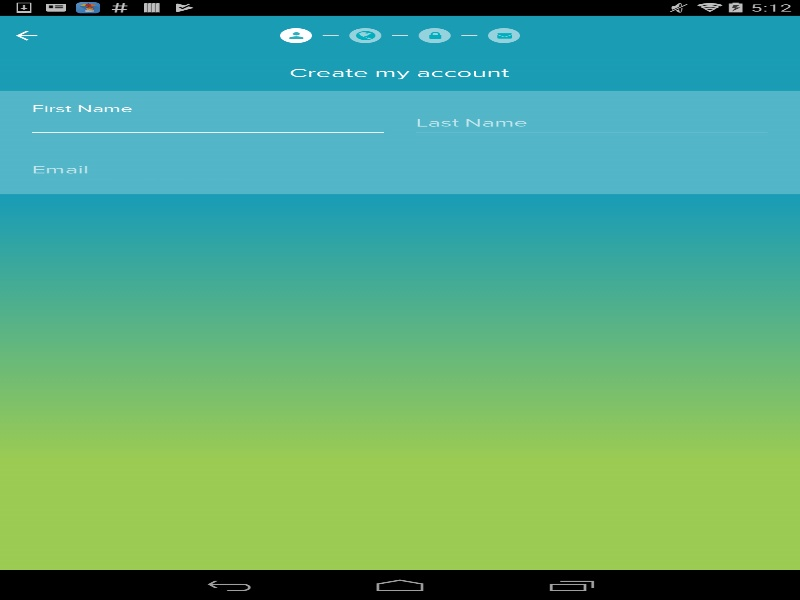Input: (26, 159, 784, 181), (26, 112, 389, 135), (410, 112, 773, 135)
